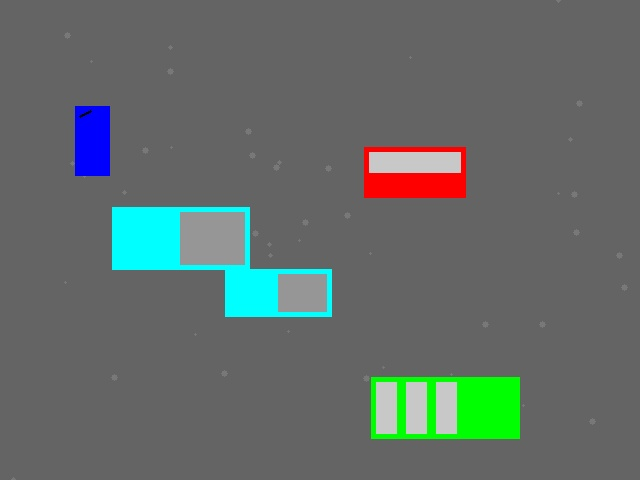bus: (371, 377, 519, 438)
car: (364, 147, 465, 197)
motorcycle: (75, 106, 109, 175)
truck: (112, 207, 249, 269), (225, 269, 331, 316)
